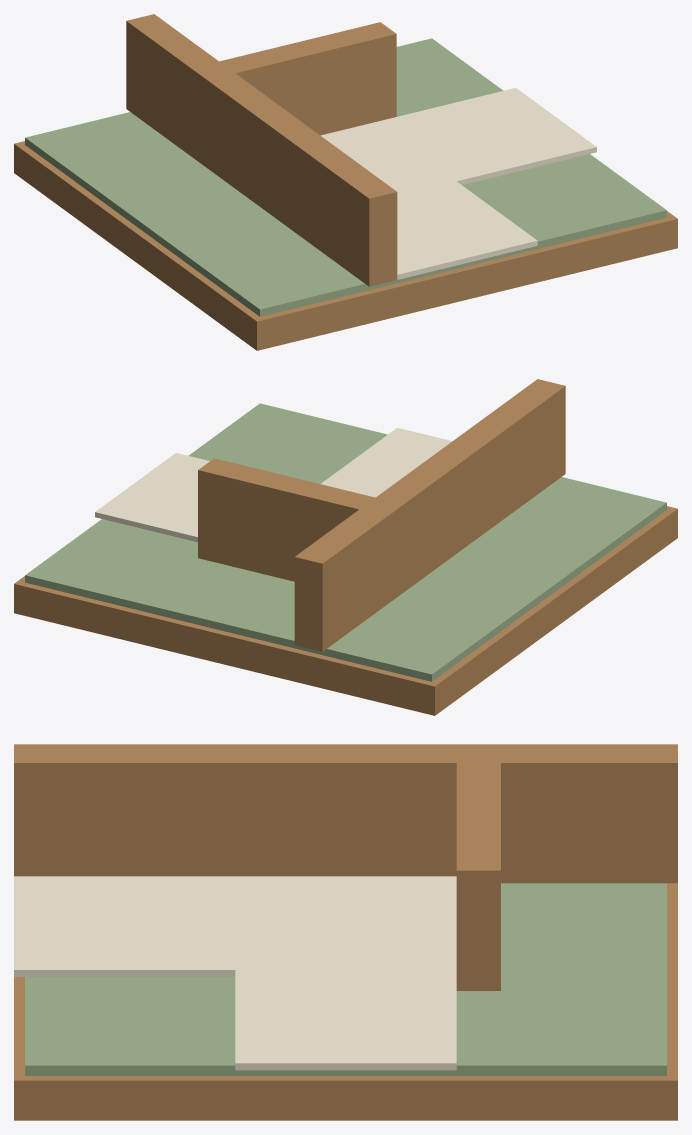
File: tabletop-game-components-corridor-corner-32a0d8b1__20864.glb
The picture shows the model from 3 angles, top to bottom: view 1: azimuth 30°, elevation 25°; view 2: azimuth 150°, elevation 25°; view 3: azimuth 270°, elevation 25°; orthographic projection. The views are drawn at different scales.
Visible parts, largest first — view 1: corridor-corner; view 2: corridor-corner; view 3: corridor-corner.
Boxes of the visible parts, box(x1,y1,x2,y2) form: corridor-corner: box(14, 14, 677, 350); corridor-corner: box(14, 379, 677, 715); corridor-corner: box(14, 744, 677, 1120).
Bounding box in the file's own units: 0.06 × 0.017 × 0.06.
